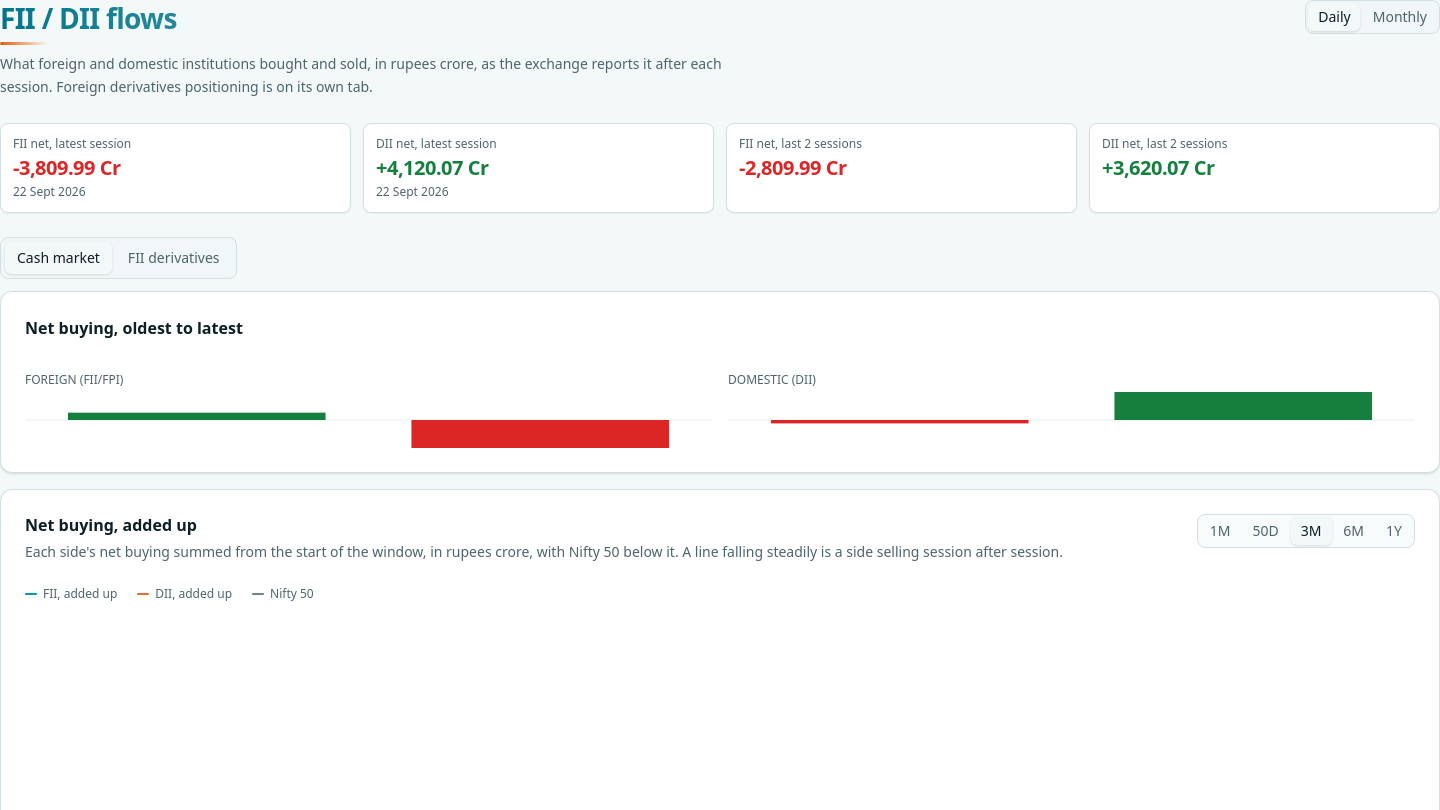
it: Flows › reads months without the benchmark, which is matched only to sessions
The width and height of the screenshot is (1440, 810).
Click the button "Monthly". click: click(1400, 17)
box: [1363,3,1437,31]
(page scrolled)
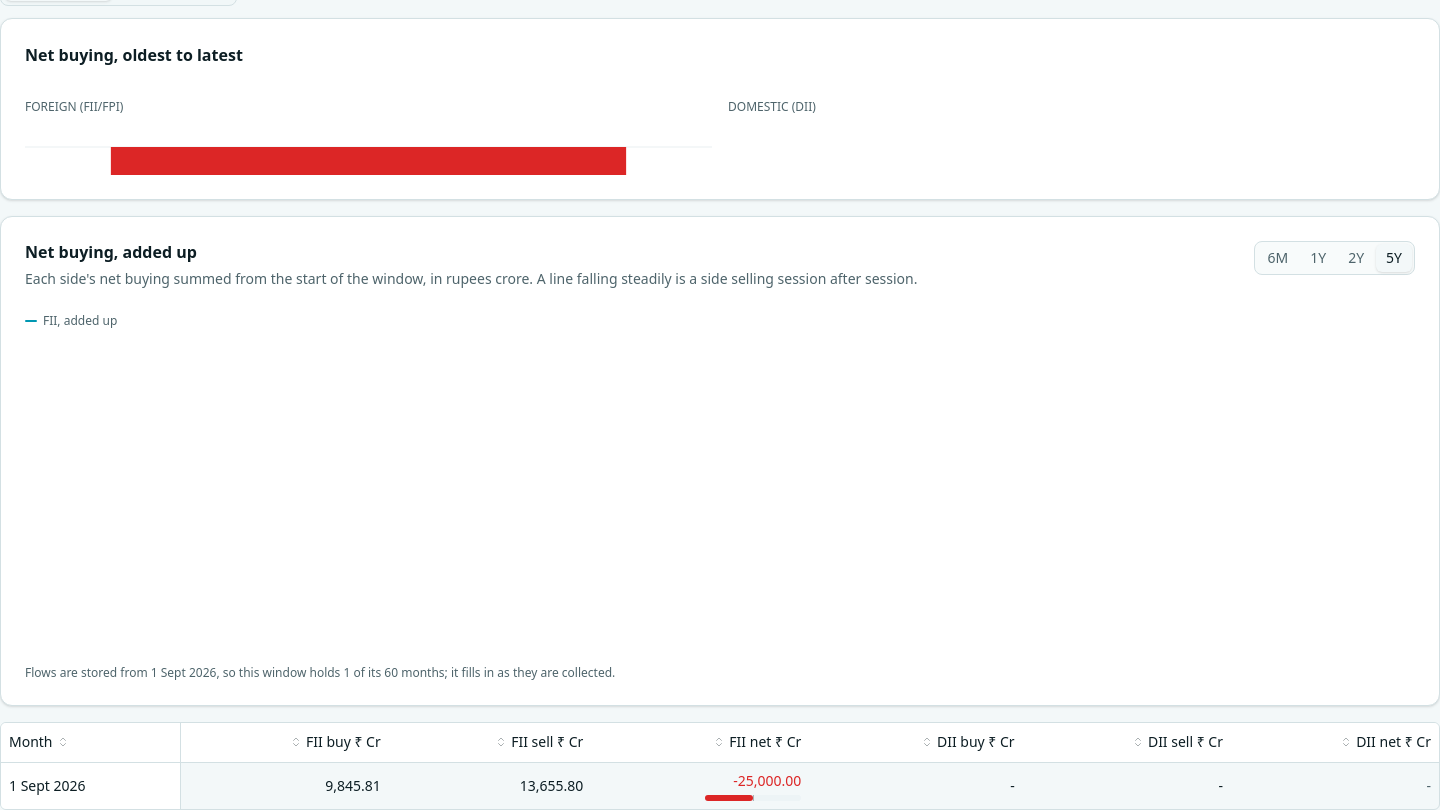
Expected: the text "-25,000.00" is shown, [733,771,801,791]
Expected: the button "Month" is shown, [9,732,68,752]
Expected: the text "Nifty 50" is gone
